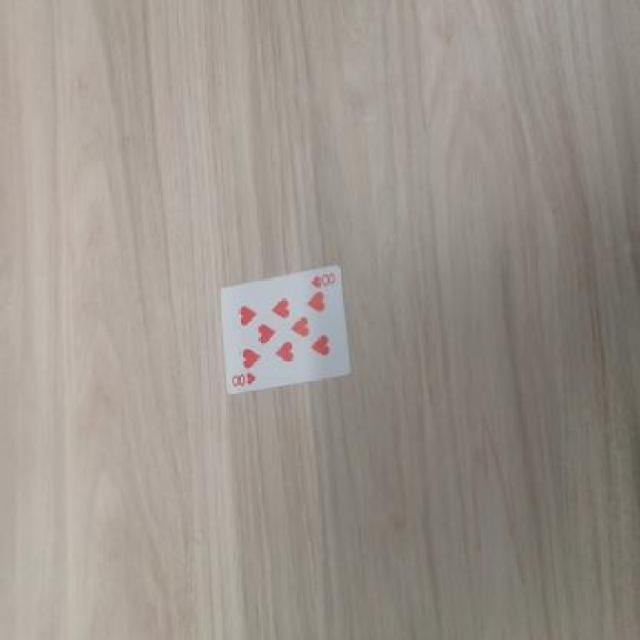8H: (308, 268, 342, 294), (232, 368, 262, 389)
